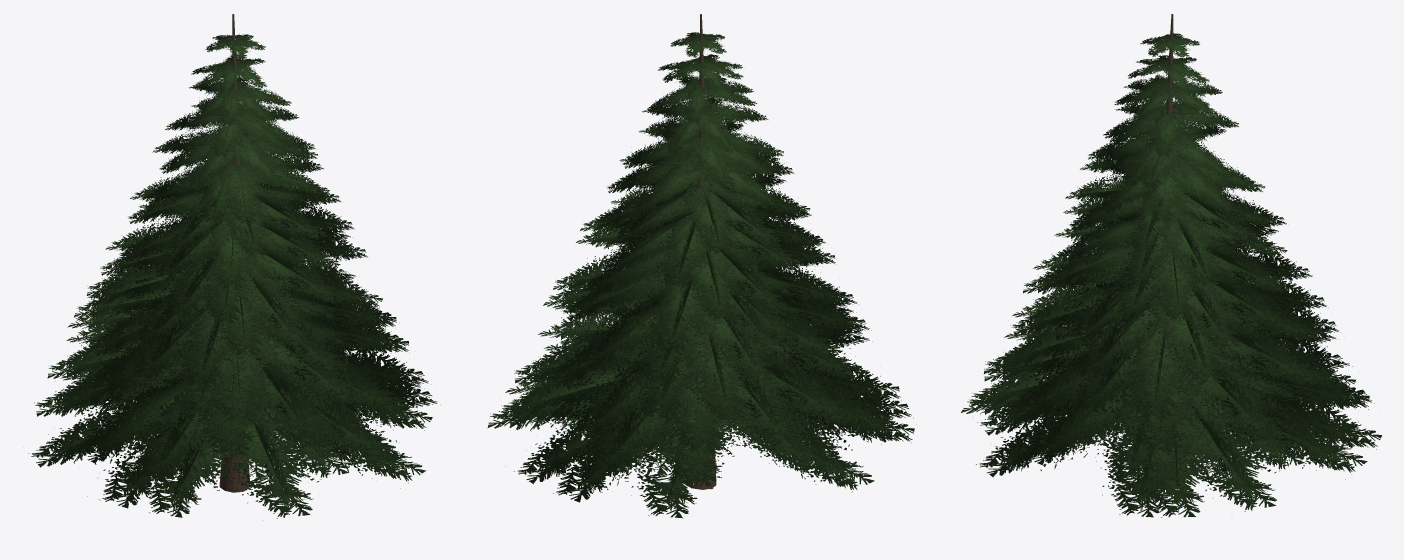
The model's file is tree_conifer_b.glb.
3 renders of one model, left to right at view 1: azimuth 30°, elevation 25°; view 2: azimuth 150°, elevation 25°; view 3: azimuth 270°, elevation 25°, orthographic.
Parts seen in each view (by area): view 1: tree_conifer_b; view 2: tree_conifer_b; view 3: tree_conifer_b.
Boxes of the visible parts, x1=… form: tree_conifer_b: x1=28, y1=14, x2=436, y2=518; tree_conifer_b: x1=487, y1=14, x2=914, y2=518; tree_conifer_b: x1=961, y1=14, x2=1381, y2=517.
Bounding box in the file's own units: 7.21 × 8.51 × 7.24.
Materials: 2 (2 with a texture image).
